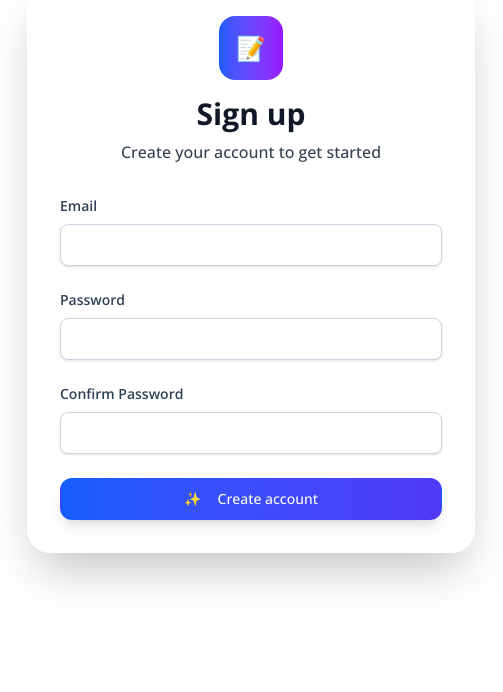
Test: RegisterForm integration › an email that is already registered gets its own message
The width and height of the screenshot is (503, 692).
Type "john@example.com" into the field labelled "Email".
click(251, 245); type("john@example.com")  # box [60,224,442,266]
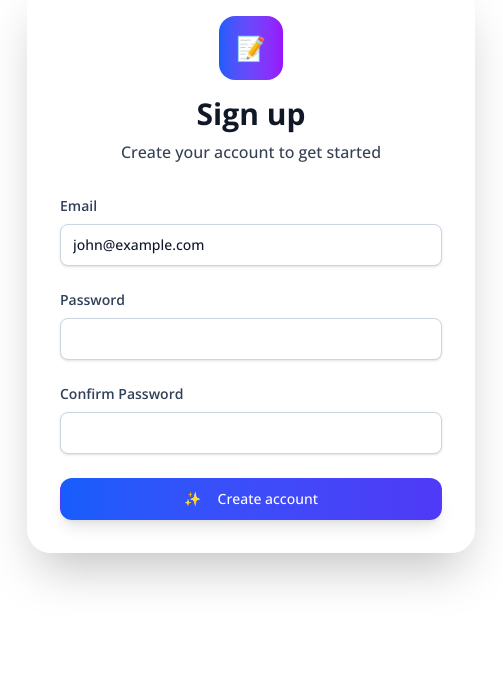
Type "secret123" into the password field labelled "Password".
click(251, 339); type("secret123")  # box [60,318,442,360]
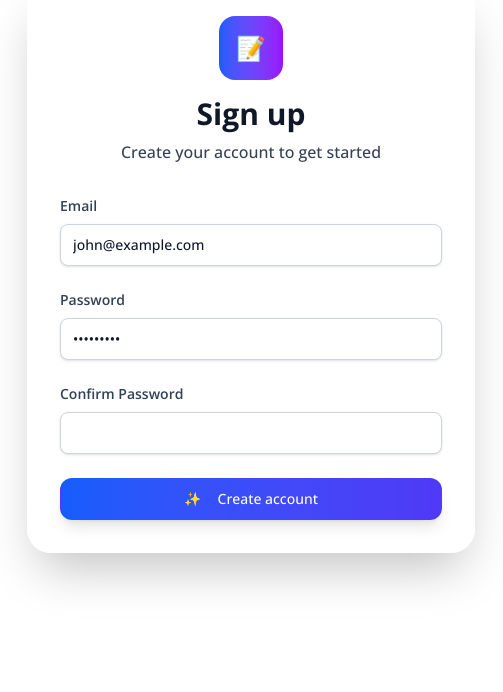
Type "secret123" into the password field labelled "Confirm Password".
click(251, 433); type("secret123")  # box [60,412,442,454]
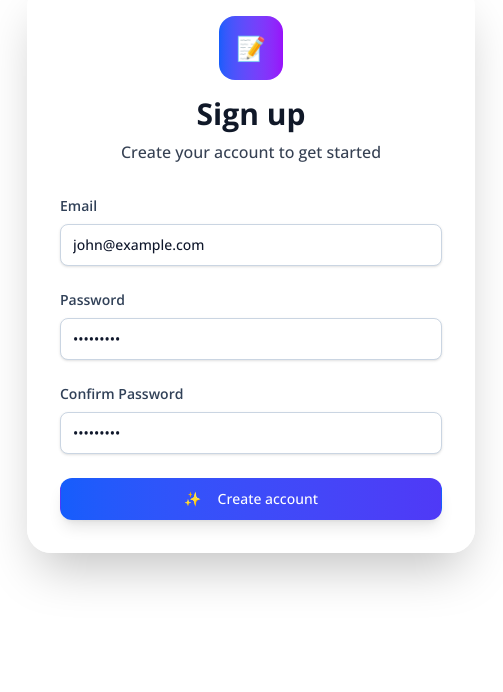
Click the button "✨ Create account".
click(251, 499)  # box [60,478,442,520]
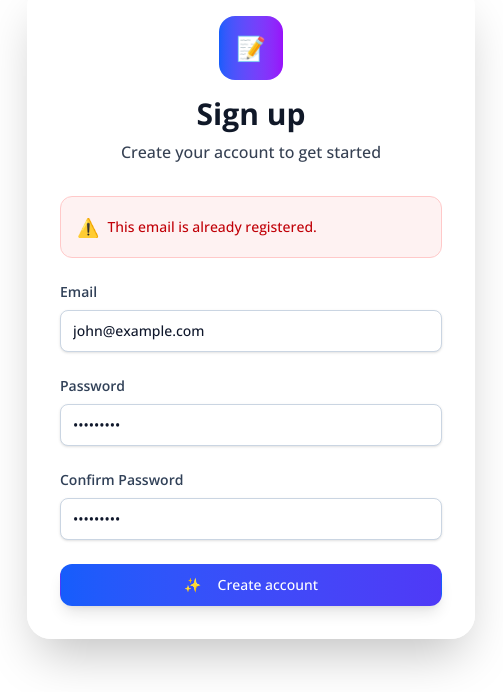
Check: the text "This email is already registered." is shown, box [108,217,317,237]
